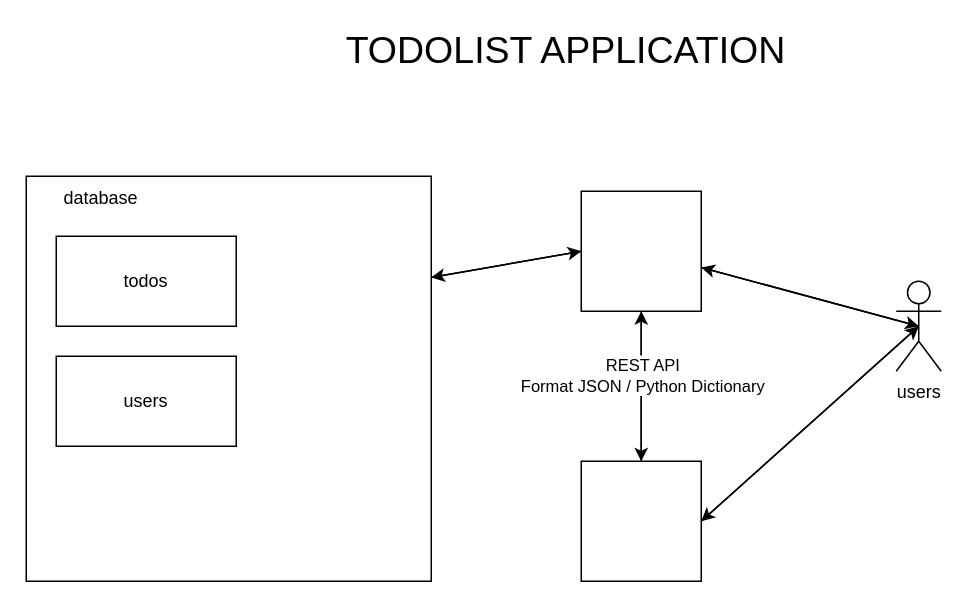
Image size: 968x608. Some labels were removed from this diagram. Here are the shapes that lost their labels. From the top down, the centre of each, then its label:
At point (640, 250): "website app".
At point (640, 520): "mobile app".
